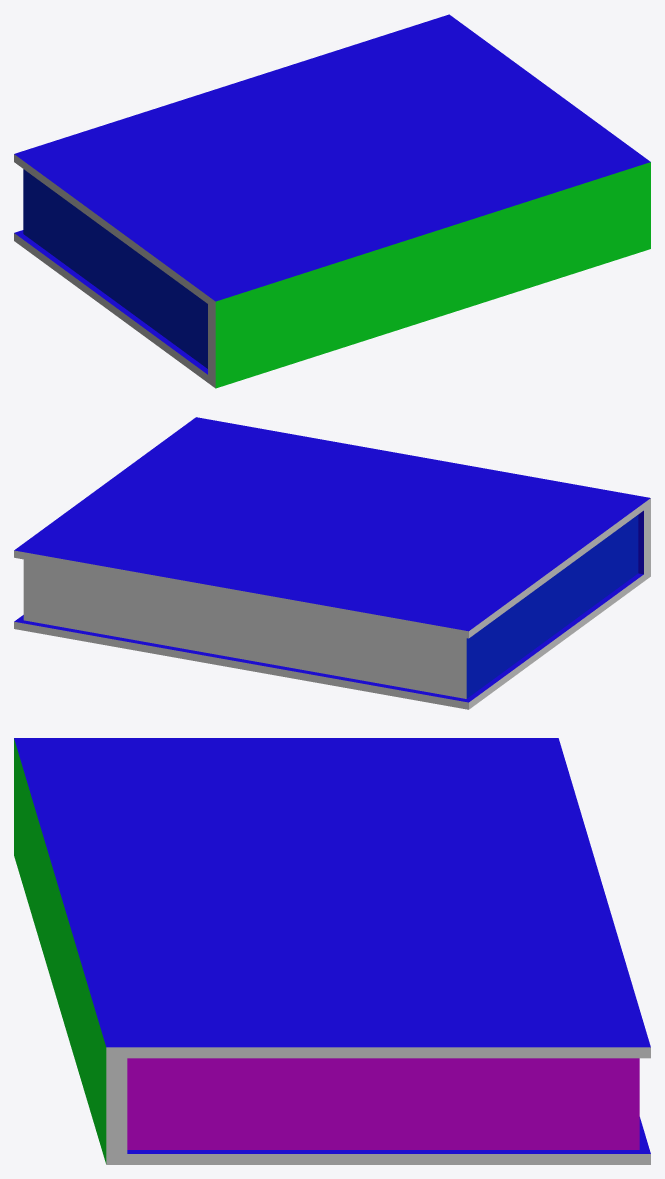
File: book 1.fbx
3 renders of one model, top to bottom at view 1: azimuth 30°, elevation 25°; view 2: azimuth 150°, elevation 25°; view 3: azimuth 270°, elevation 25°, orthographic. The views are drawn at different scales.
Visible parts, largest first — view 1: Cube.001, Cube.002; view 2: Cube.001, Cube.002; view 3: Cube.001, Cube.002.
Boxes of the visible parts, x1,y1,x2,y2 form: Cube.001: (14,14,650,388); Cube.002: (23,169,207,368); Cube.001: (14,417,650,709); Cube.002: (23,515,638,698); Cube.001: (14,738,650,1164); Cube.002: (127,1058,639,1149).
Size of the model in its own units: 170 by 30.1 by 148.
